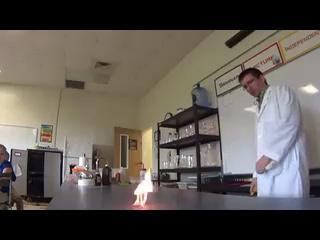Fire: (132, 174, 156, 209)
